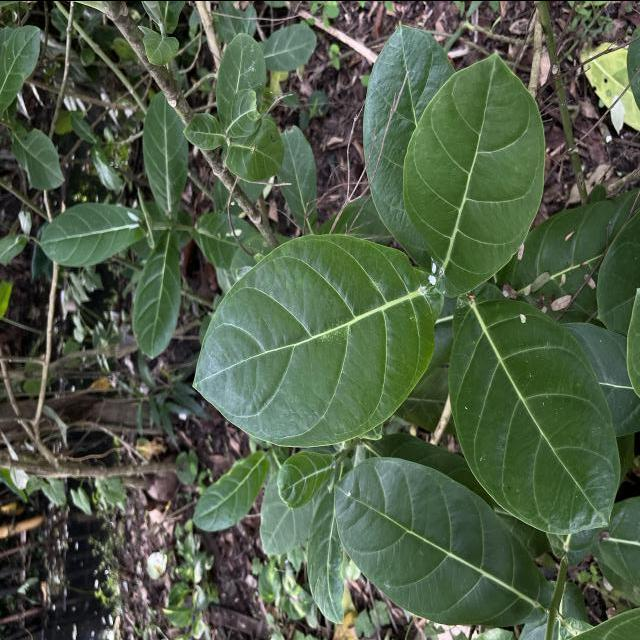Calotropis gigantea: (190, 228, 436, 450), (445, 279, 623, 536), (328, 454, 558, 626), (400, 48, 548, 298), (361, 21, 454, 271), (39, 201, 142, 268), (132, 230, 184, 360), (192, 449, 270, 531), (140, 88, 190, 215)
